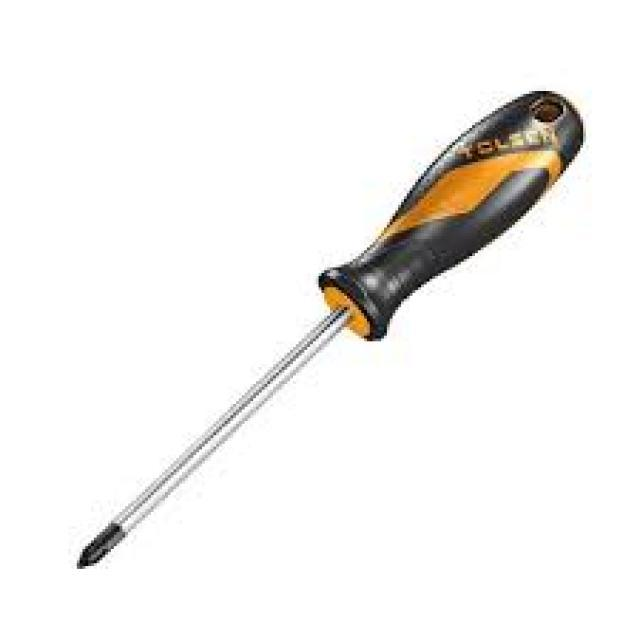screwdriver: (72, 88, 590, 569)
